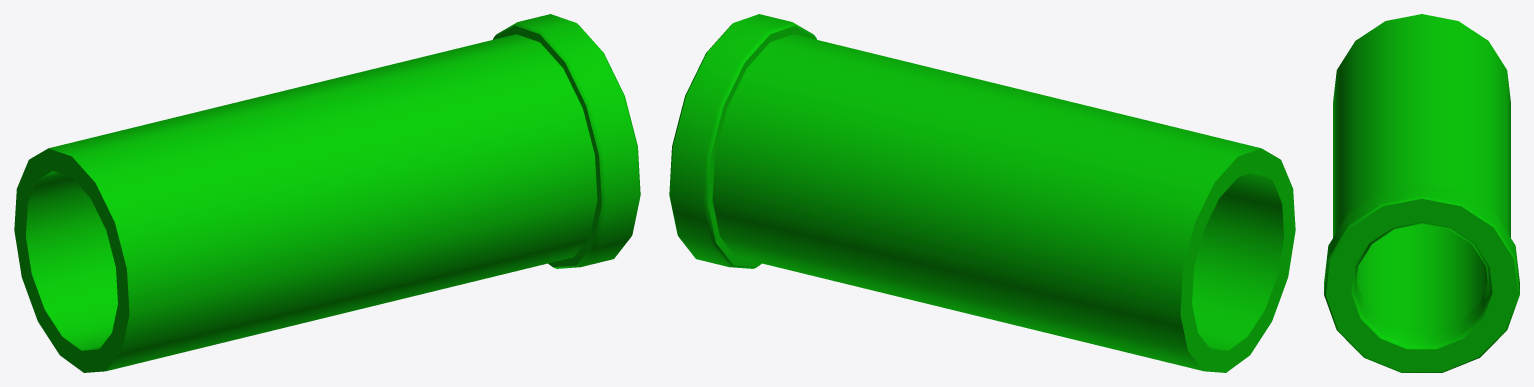
The model's file is long pipe 1.fbx.
3 views of the same model, side by side, from view 1: azimuth 30°, elevation 25°; view 2: azimuth 150°, elevation 25°; view 3: azimuth 270°, elevation 25° (orthographic). The views are drawn at different scales.
Parts seen in each view (by area): view 1: pPipe2; view 2: pPipe2; view 3: pPipe2.
Part boxes in pixels (x1=…): pPipe2: x1=14, y1=14, x2=640, y2=372; pPipe2: x1=669, y1=14, x2=1295, y2=372; pPipe2: x1=1324, y1=14, x2=1519, y2=372.
Bounding box in the file's own units: 9.66 × 4.16 × 4.18.
